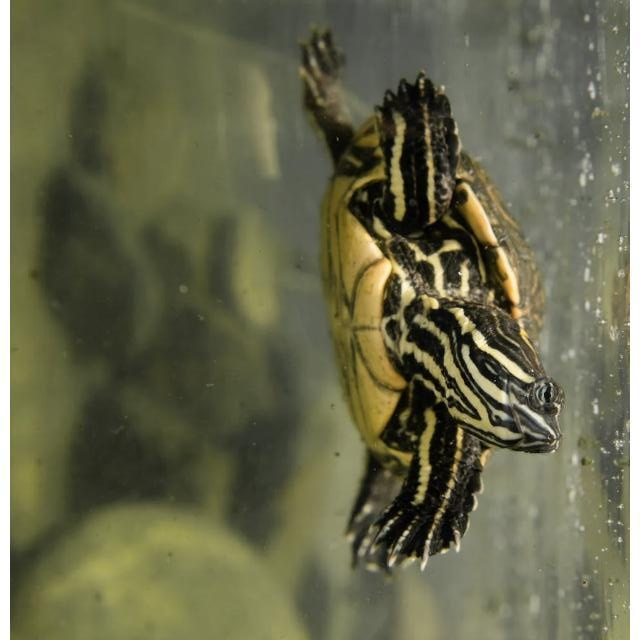turtle: (298, 25, 566, 575)
